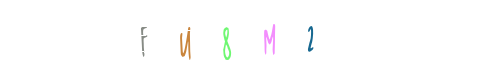2: (270, 0, 350, 80)
8: (202, 0, 282, 80)
F: (133, 0, 213, 80)
M: (212, 0, 292, 80)
U: (189, 0, 269, 80)
